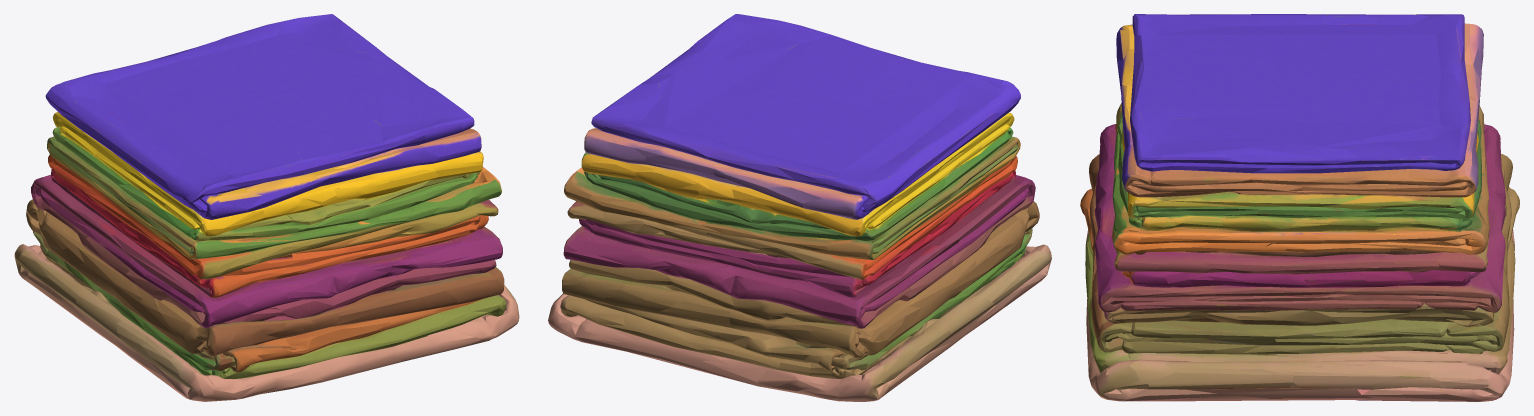
Rendered from DEC_COLOR_CLOTH_001.glb.
The picture shows the model from 3 angles, left to right: view 1: azimuth 30°, elevation 25°; view 2: azimuth 150°, elevation 25°; view 3: azimuth 270°, elevation 25°; orthographic projection. The views are drawn at different scales.
Size of the model in its own units: 1.9 by 1.12 by 1.89.
Materials: 1 (1 with a texture image).
